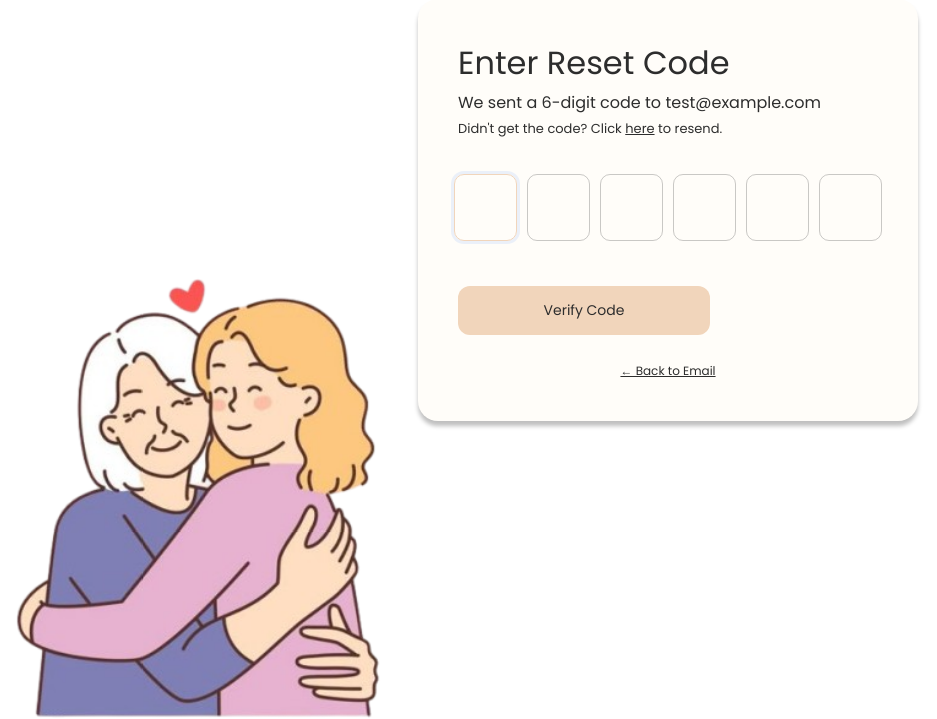
Test case: ForgotPasswordOTP component › displays error message when OTP verification fails
Type "1" into the 1st field at (486, 207), box [454,174,517,240]
Type "2" into the 2nd field at (558, 207), box [527,174,590,240]
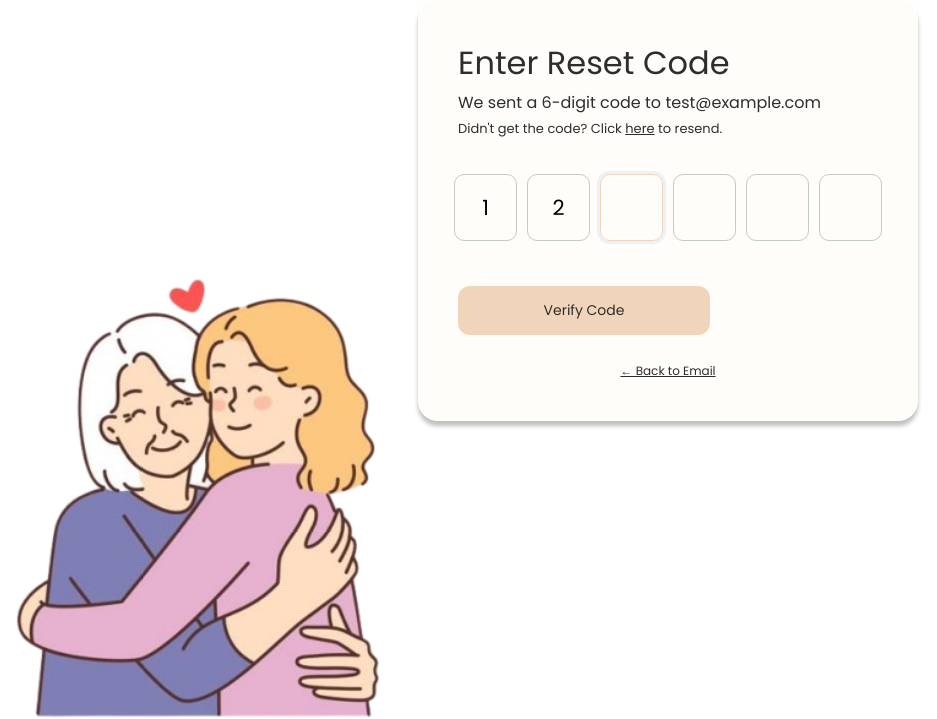
Type "3" into the 3rd field at (632, 207), box [600,174,663,240]
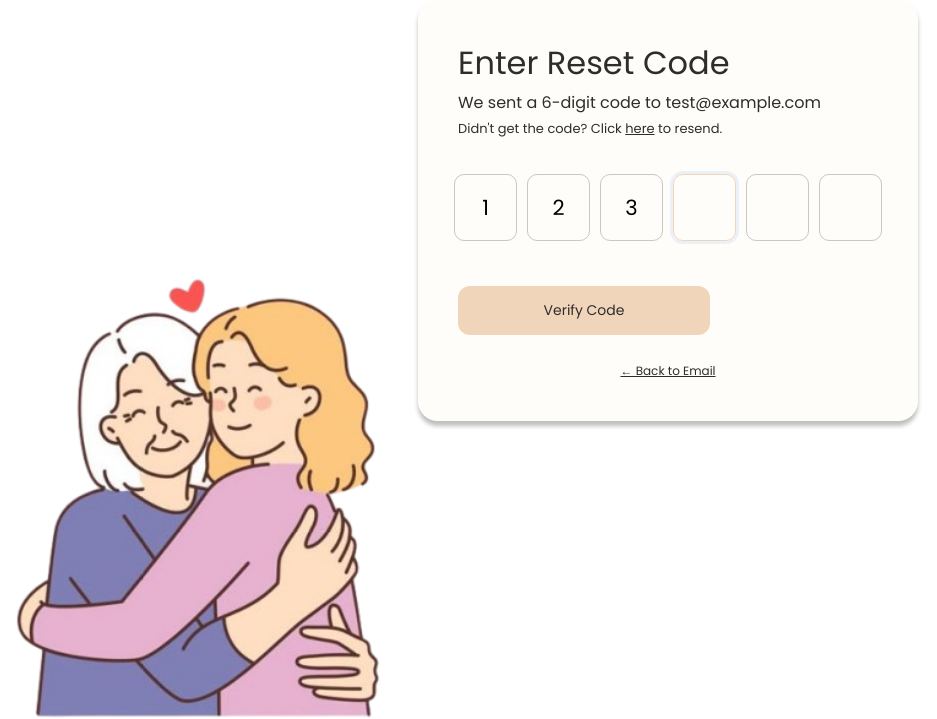
Type "4" into the 4th field at (704, 207), box [673,174,736,240]
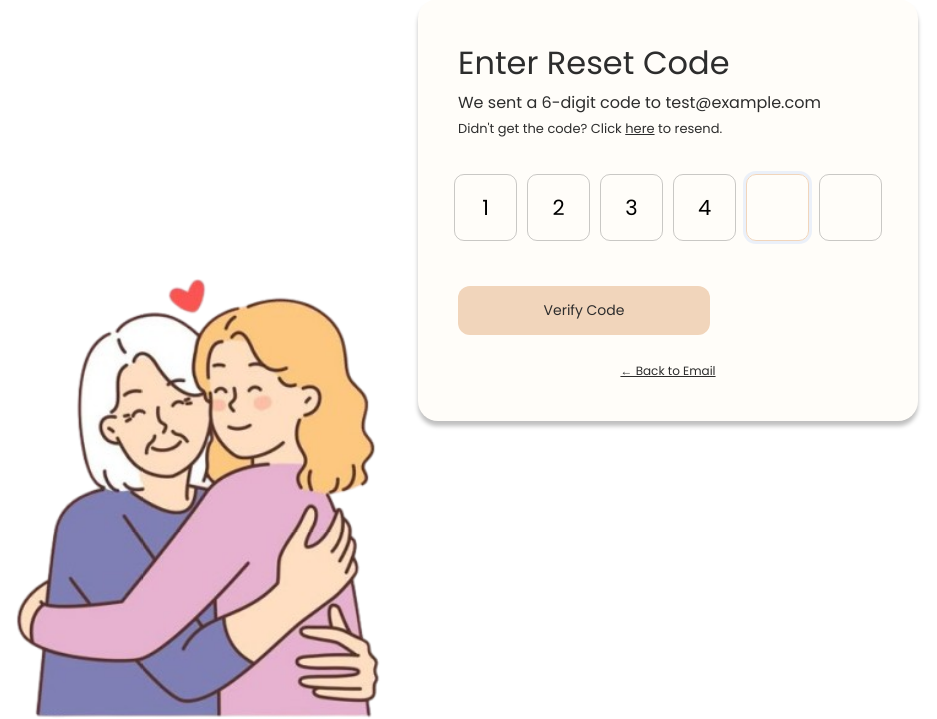
Type "5" into the 5th field at (778, 207), box [746,174,809,240]
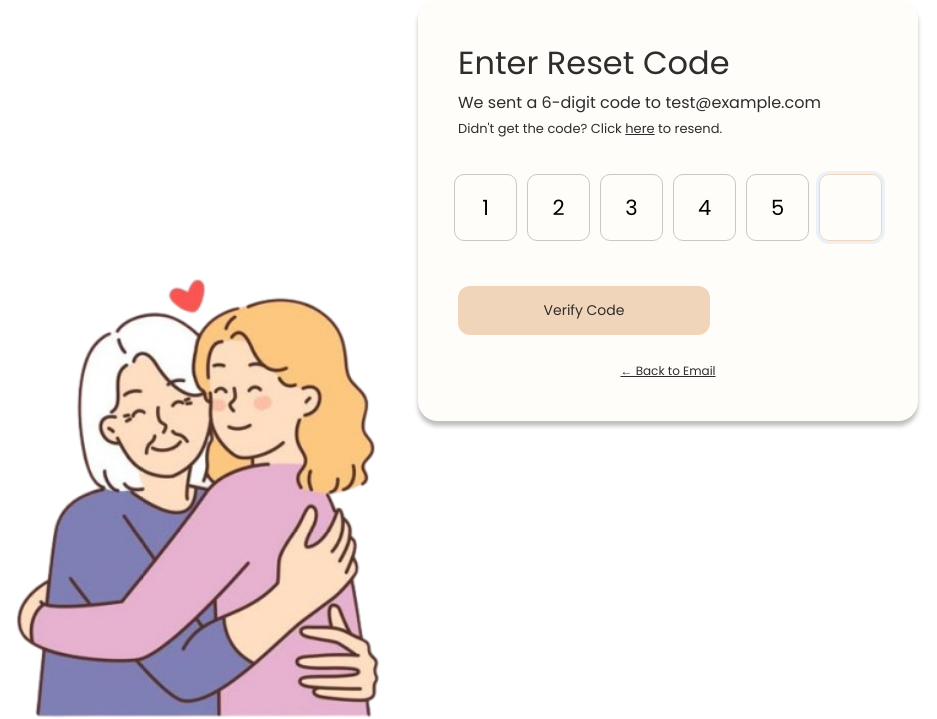
Type "6" into the 6th field at (850, 207), box [819,174,882,240]
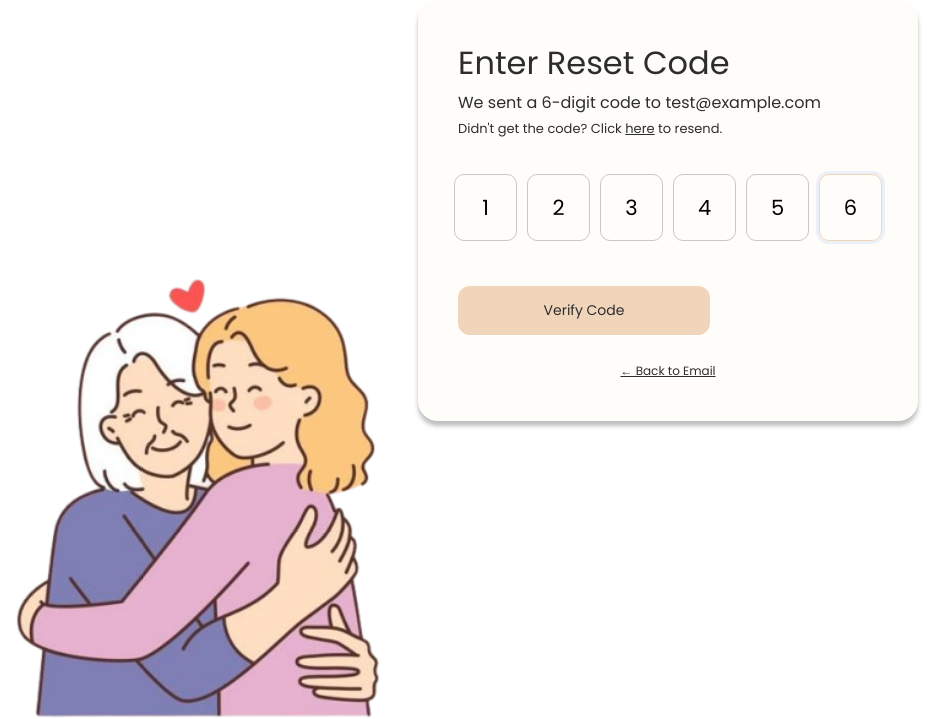
Click the button "Verify Code" at (584, 310), box [458,286,710,334]
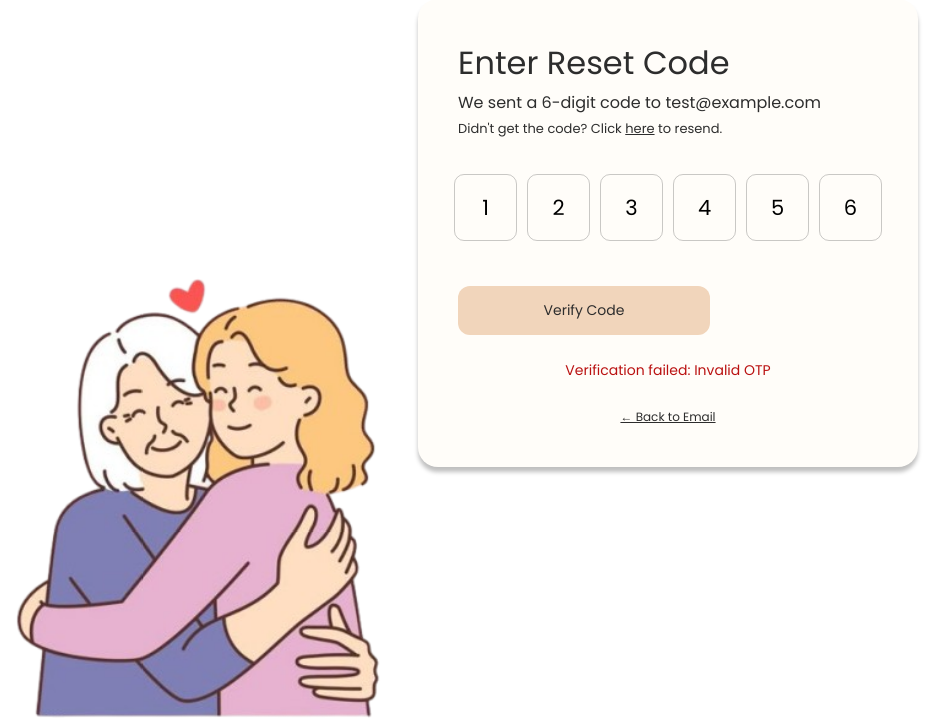
expect the text "Verification failed: Invalid OTP" is shown: met, box [565,360,771,380]
